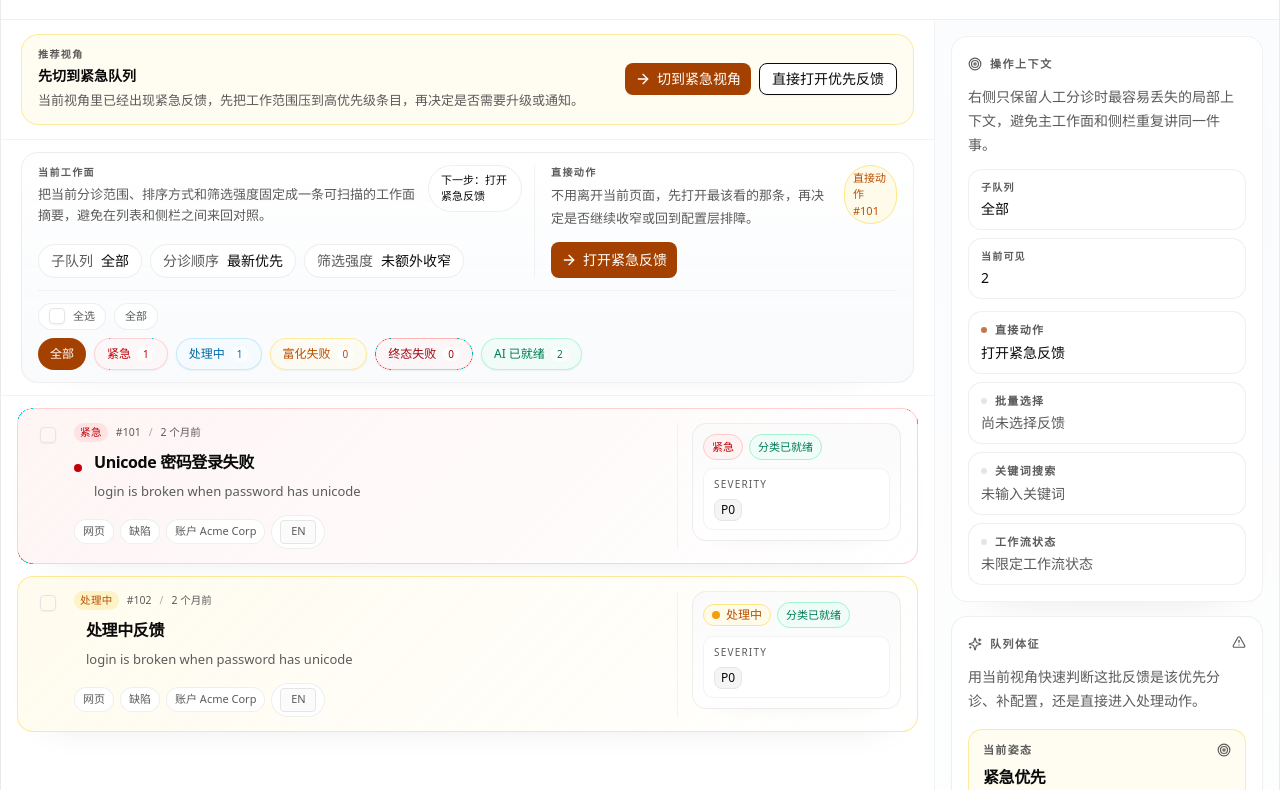
Scenario: _authed.feedback route — user flow smoke › queue mode updates recommendation copy and direct action to match the active work surface
The width and height of the screenshot is (1280, 790).
(page scrolled)
Check: the text "处理中反馈" is shown, box [86, 619, 164, 641]
Click the button named "处理中1": (219, 354) [176, 338, 262, 370]
(page scrolled)
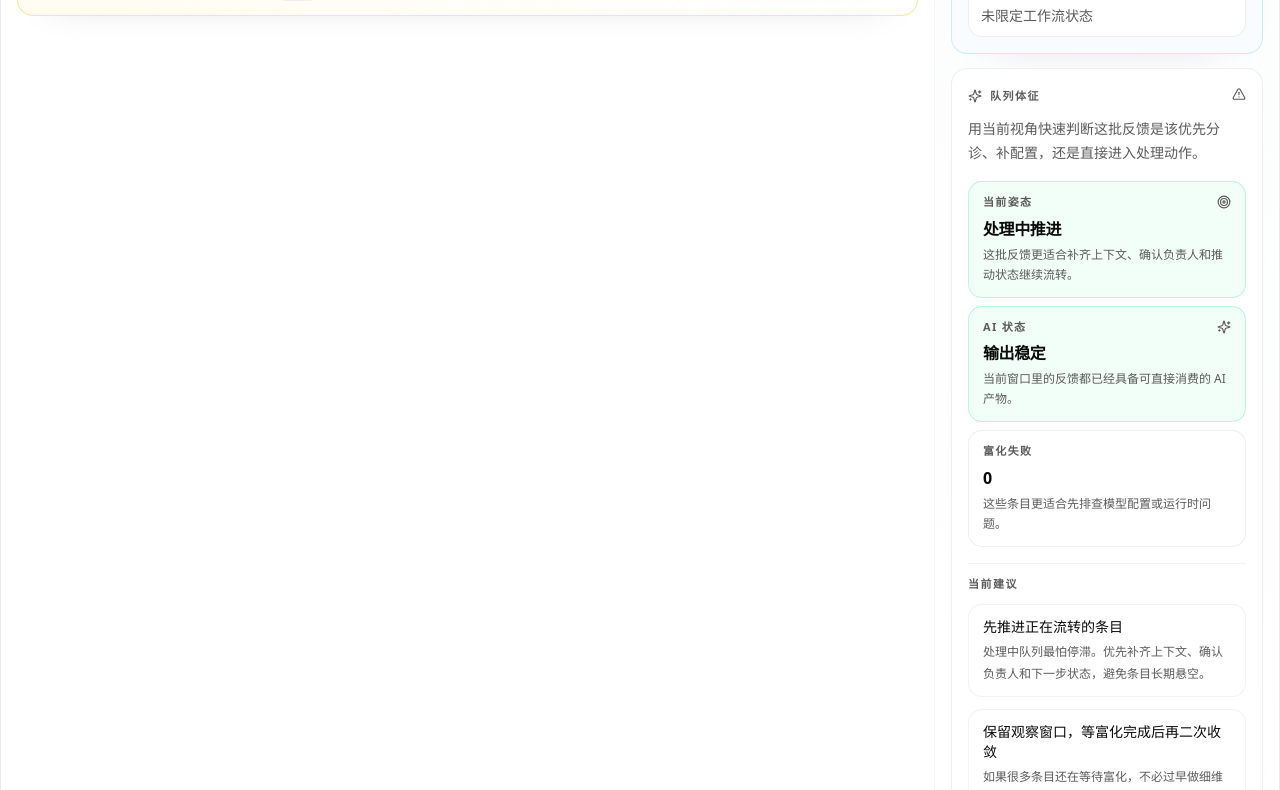
Check: the text "输出稳定" is shown, box [983, 342, 1045, 364]
Check: the text "先推进正在流转的条目" is shown, box [983, 617, 1123, 636]
Check: the text "处理中推进" is shown, box [983, 218, 1061, 240]
